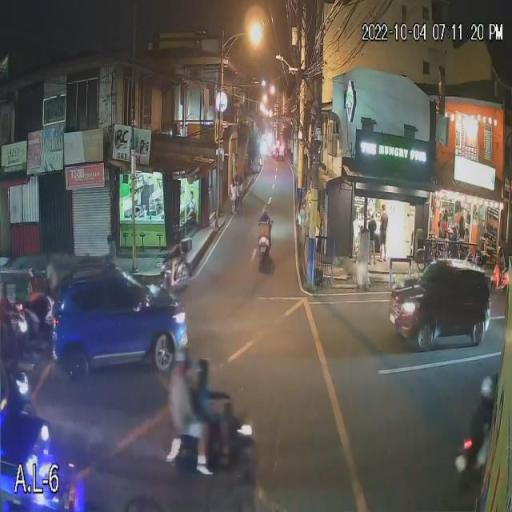helmet: (166, 344, 195, 372), (192, 356, 214, 385), (258, 207, 273, 221)
motorcycle: (162, 393, 278, 482), (254, 232, 274, 263)
rider: (192, 380, 222, 478), (169, 368, 195, 474), (259, 218, 273, 231)
